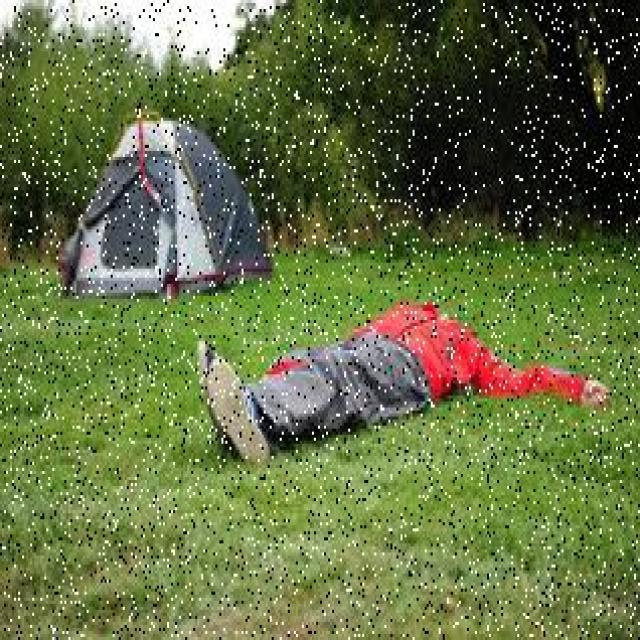fall: (221, 293, 584, 444)
